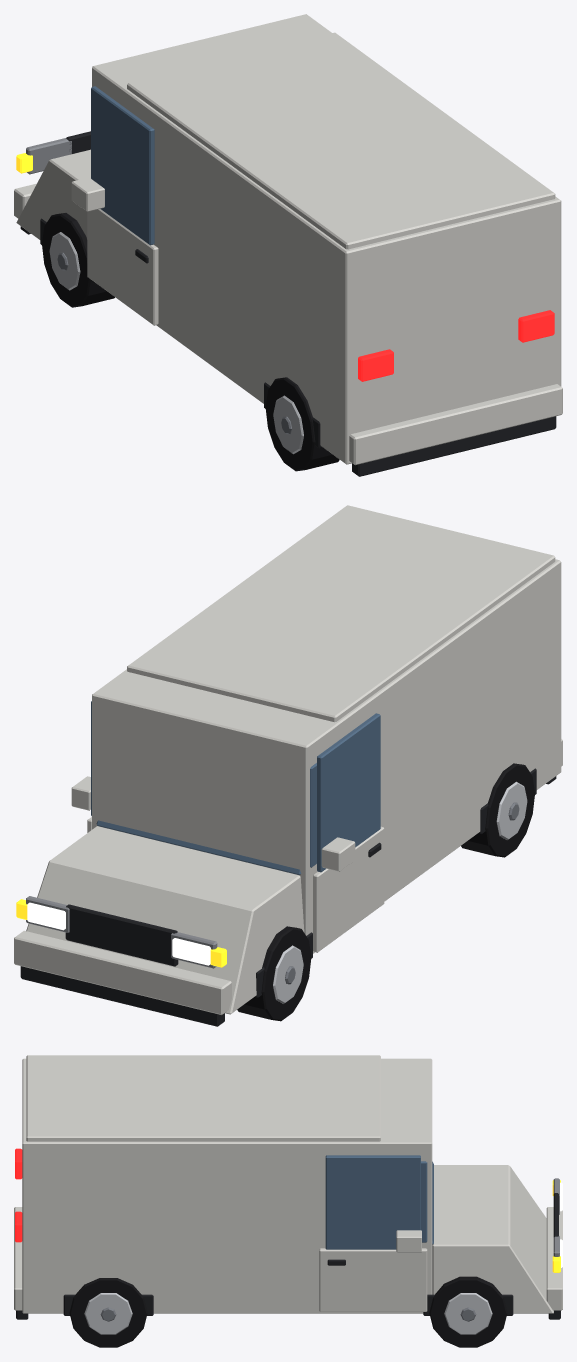
File: car_van.glb
3 renders of one model, top to bottom at view 1: azimuth 30°, elevation 25°; view 2: azimuth 150°, elevation 25°; view 3: azimuth 270°, elevation 25°, orthographic. The views are drawn at different scales.
Parts seen in each view (by area): view 1: car_body, car_door_FL; view 2: car_body, car_door_FL, car_door_FR; view 3: car_body, car_door_FR.
Boxes of the visible parts, x1,y1,x2,y2 form: car_body: (14, 14, 562, 476); car_door_FL: (71, 86, 158, 325); car_body: (14, 505, 562, 1026); car_door_FL: (313, 713, 384, 952); car_door_FR: (71, 701, 91, 832); car_body: (14, 1055, 562, 1347); car_door_FR: (319, 1155, 427, 1311).
Bounding box in the file's own units: 2.43 × 2.24 × 5.34.
